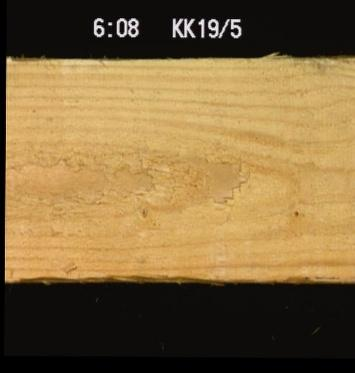small_knot: (135, 202, 150, 220), (288, 203, 301, 220)
wave: (10, 265, 225, 281), (266, 268, 339, 282)
